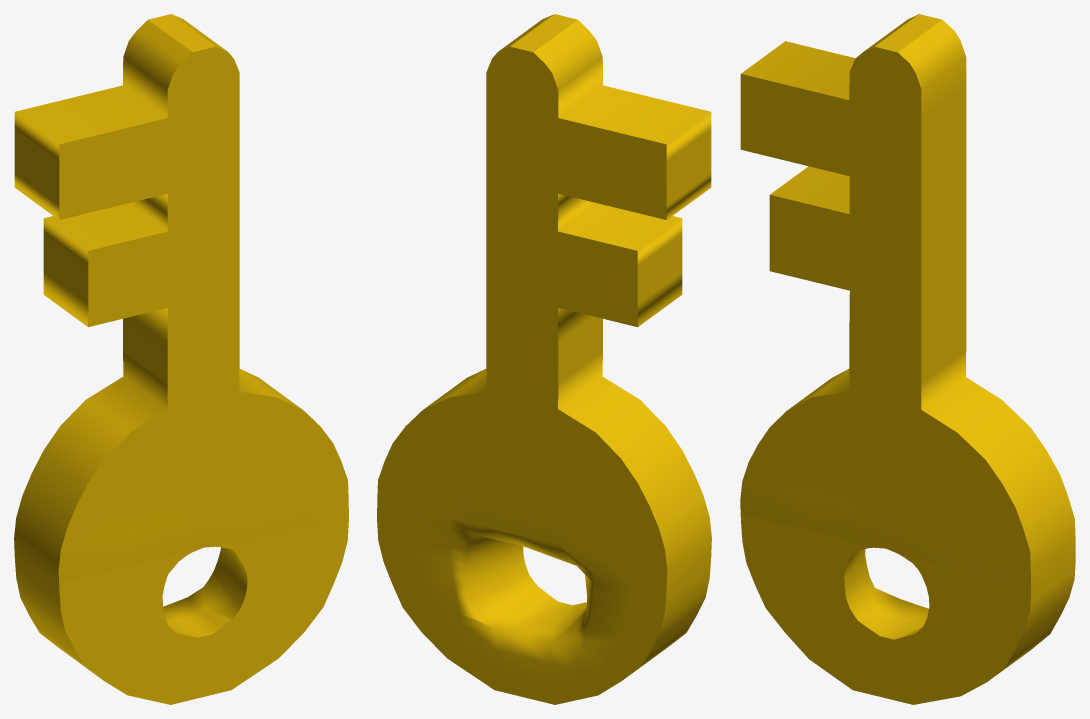
Rendered from Key.fbx.
The picture shows the model from 3 angles, left to right: view 1: azimuth 30°, elevation 25°; view 2: azimuth 150°, elevation 25°; view 3: azimuth 330°, elevation 25°; orthographic projection.
Visible parts, largest first — view 1: pCube1; view 2: pCube1; view 3: pCube1.
Boxes of the visible parts, x1,y1,x2,y2 form: pCube1: (14,14,348,704); pCube1: (377,14,711,704); pCube1: (740,14,1075,704).
Bounding box in the file's own units: 93.96 × 200 × 25.58.
